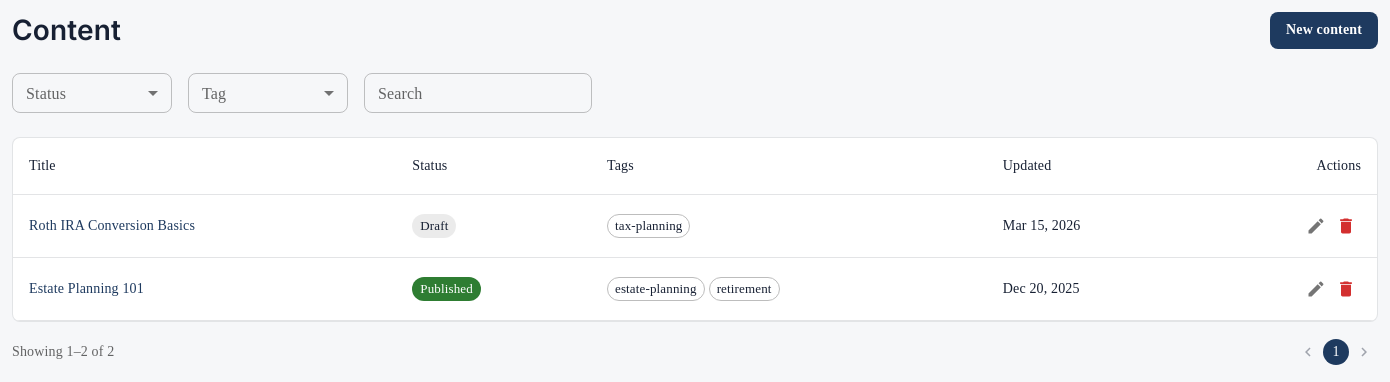
Test: ContentListScreen › each row has an Edit link to the editor and a Delete button, both with tooltips
Hover over the button named "Delete Roth IRA Conversion Basics": x=1346, y=226 x1=1331 y1=210 x2=1361 y2=240
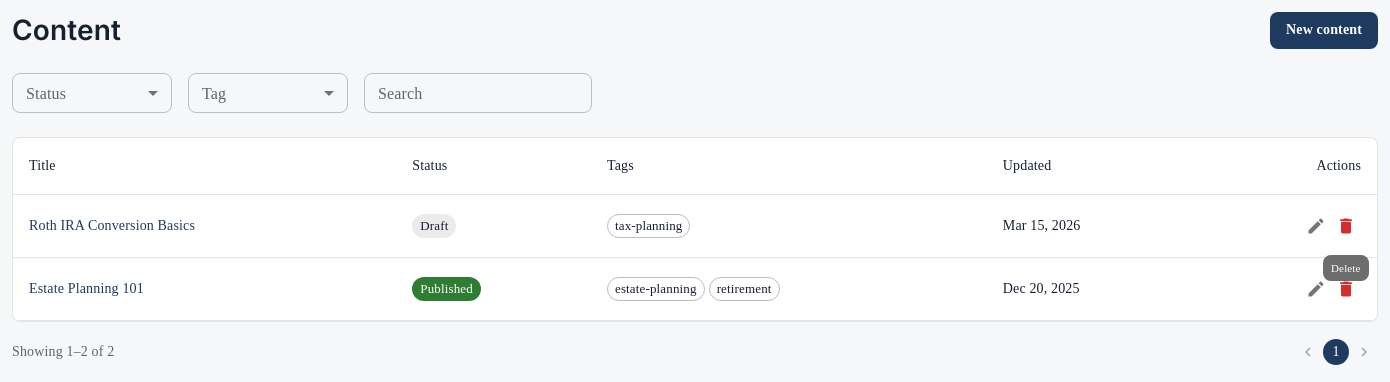
Now the tooltip reads "Delete", box x1=1331 y1=262 x2=1361 y2=274
